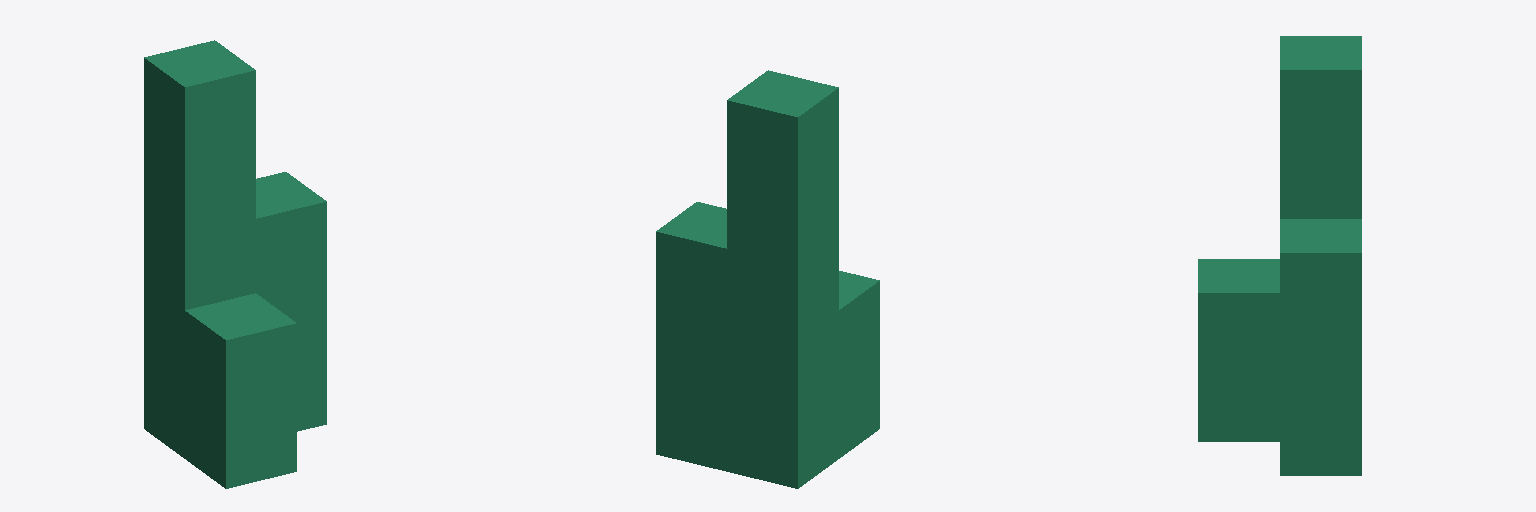
3 views of the same model, side by side, from view 1: azimuth 30°, elevation 25°; view 2: azimuth 150°, elevation 25°; view 3: azimuth 270°, elevation 25° (orthographic).
Visible parts, largest first — view 1: object 1; view 2: object 1; view 3: object 1.
Part boxes in pixels (x1,y1,x2,y2): object 1: (144, 40, 326, 488); object 1: (656, 70, 879, 488); object 1: (1198, 36, 1361, 475).
Bounding box in the file's own units: 0.2 × 0.5 × 0.2.
Materials: 1 (1 with a texture image).